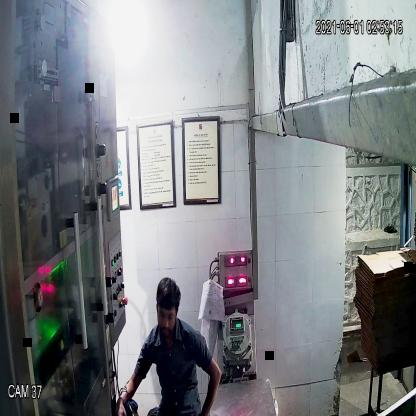no_goggles: (155, 303, 179, 327)
